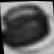correct: (0, 0, 54, 52)
